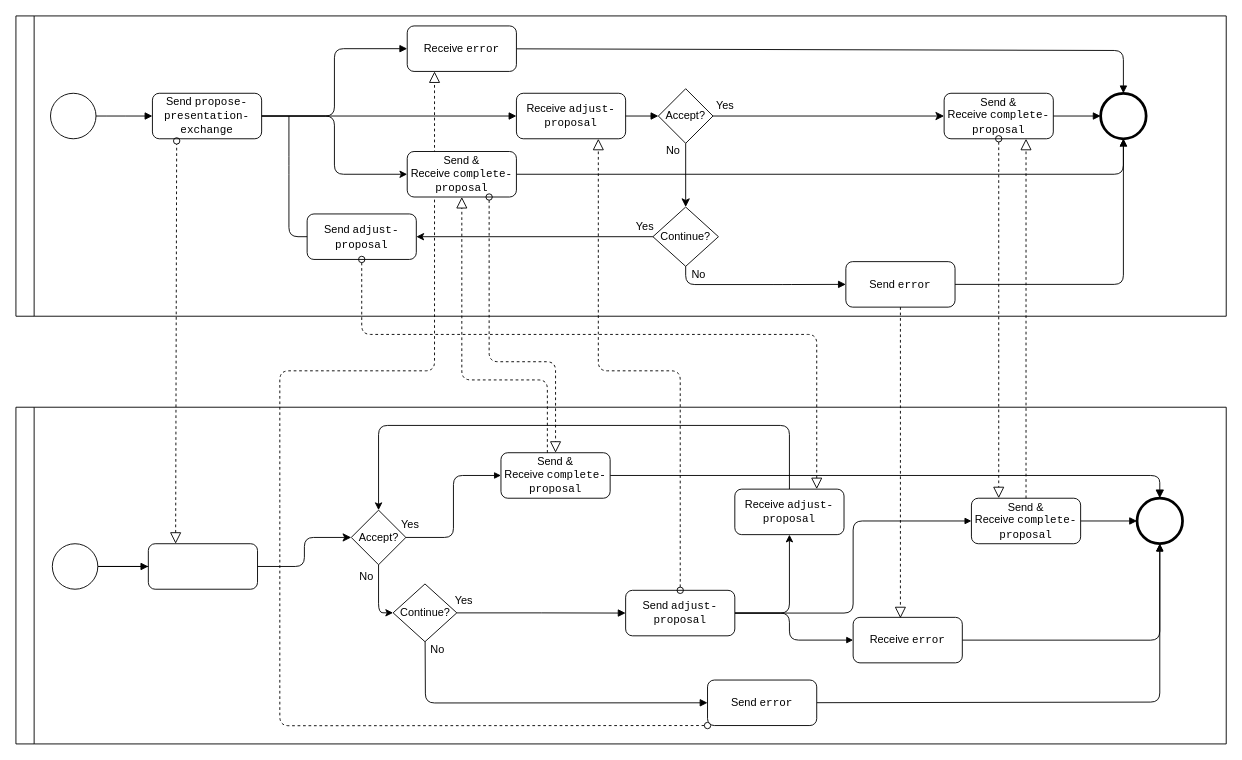
Some shapes in this 1242 by 760 pixel diagram are drawn without their labels. The box of each missing label's shape, as (x1, y1, x2, y2) in pixels:
Initiator: (15, 15, 1226, 316)
Receive propose-presentation-exchange: (147, 543, 258, 589)
Receiver: (15, 406, 1226, 744)
